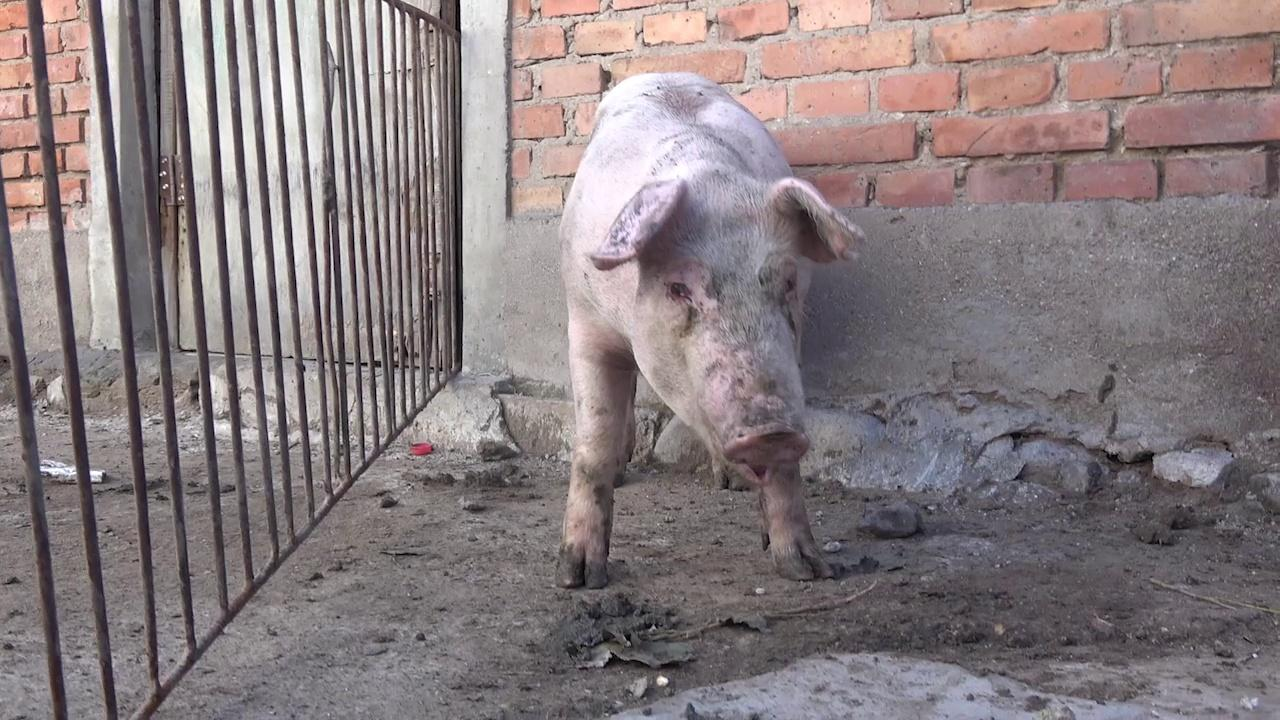Face: (580, 165, 875, 484)
